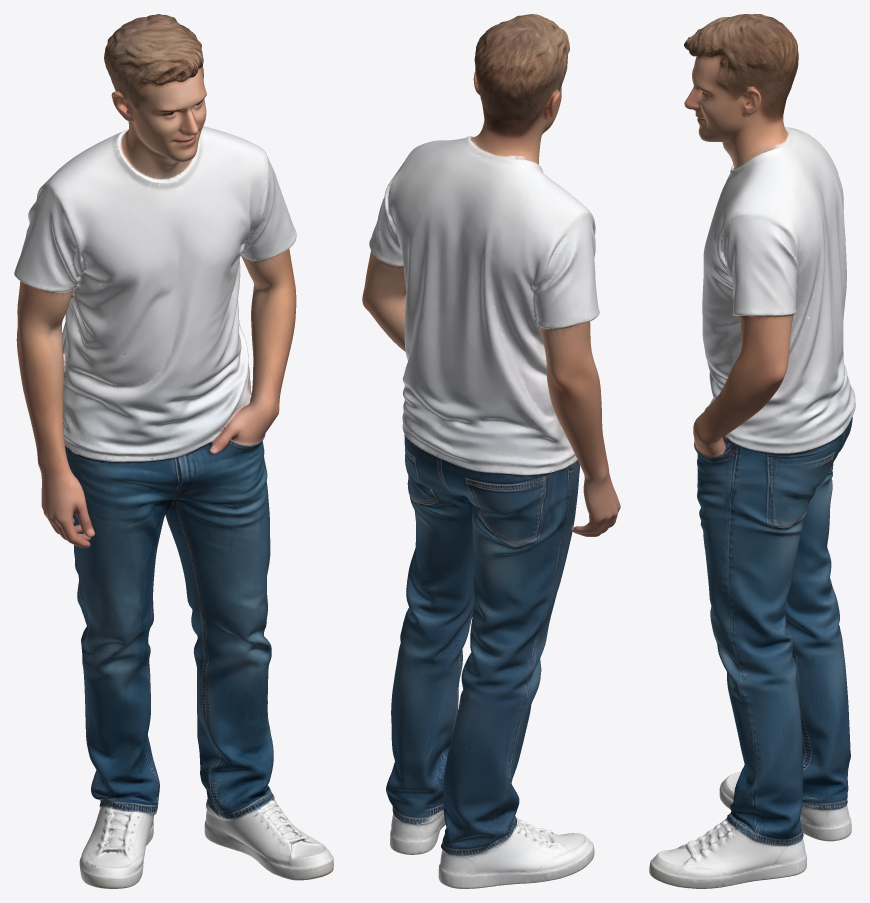
Rendered from casual_portrait_of_a_young_man.glb.
3 views of the same model, side by side, from view 1: azimuth 30°, elevation 25°; view 2: azimuth 150°, elevation 25°; view 3: azimuth 270°, elevation 25° (orthographic). The views are drawn at different scales.
Visible parts, largest first — view 1: Object_5, Object_6, Object_7; view 2: Object_6, Object_5, Object_7; view 3: Object_6, Object_5, Object_7.
Part boxes in pixels (box(x1,y1,x2,y2)): Object_5: box(38, 14, 333, 888); Object_6: box(14, 15, 274, 863); Object_7: box(35, 14, 284, 885); Object_6: box(362, 29, 616, 888); Object_5: box(382, 14, 620, 870); Object_7: box(391, 22, 609, 878); Object_6: box(726, 17, 855, 880); Object_5: box(649, 14, 804, 888); Object_7: box(731, 18, 782, 879).
Bounding box in the file's own units: 0.5928 × 1.9 × 0.4399.
Materials: 1 (1 with a texture image).
